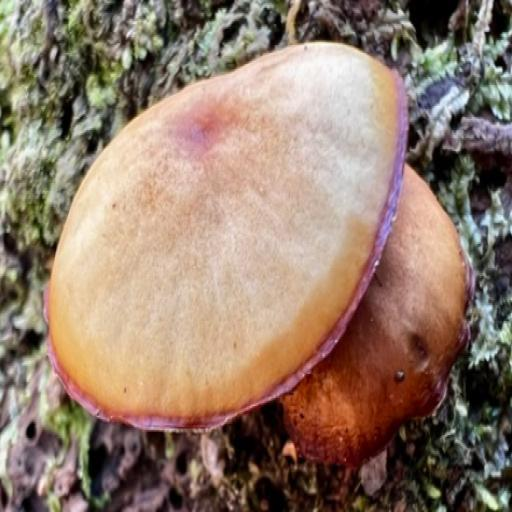mushroom: (44, 36, 476, 487)
